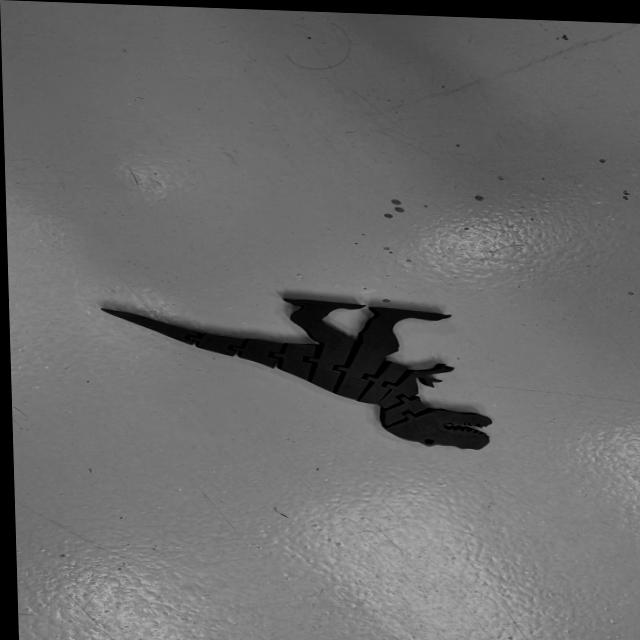dino: (98, 290, 495, 452)
